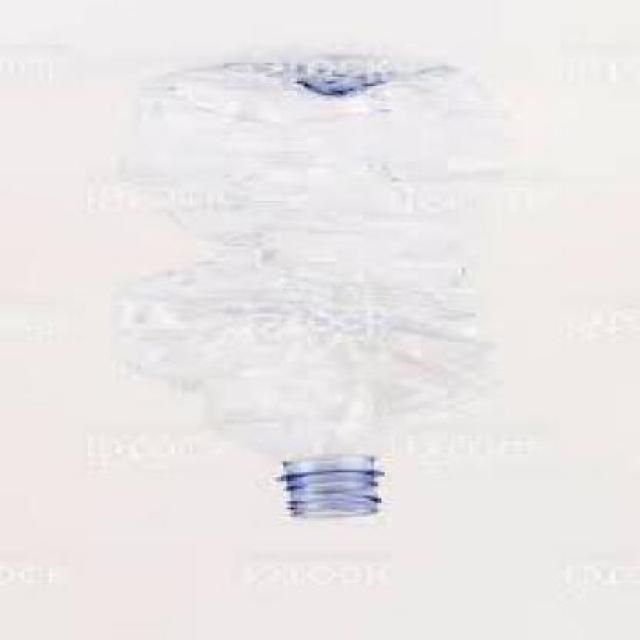PLASTIC: (102, 56, 500, 519)
